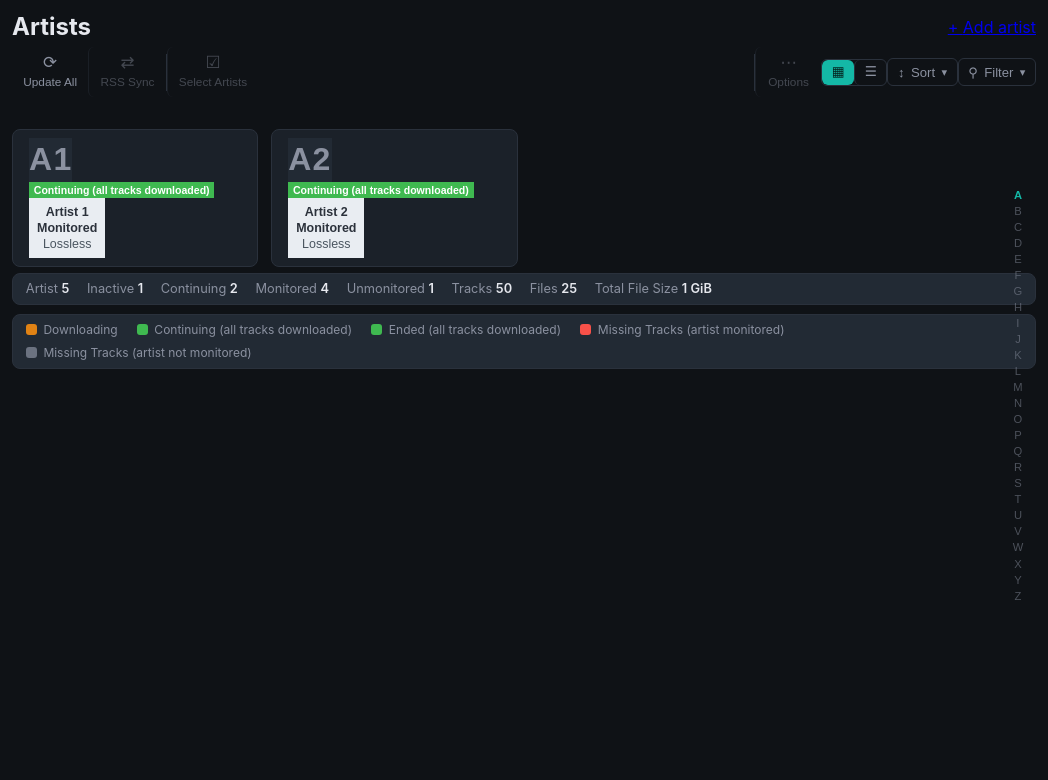
Test case: MusicPage (L1 artist grid) › shows the Lidarr-ordered toolbar groups and updates all
Expected: the element with test id "artist-card-1" is shown, [12,113,258,267]
Expected: the button with test id "music-rss-sync" is disabled, [88,47,166,97]
Click the button with test id "music-update-all" at coordinates (50, 72), box [12,47,88,97]
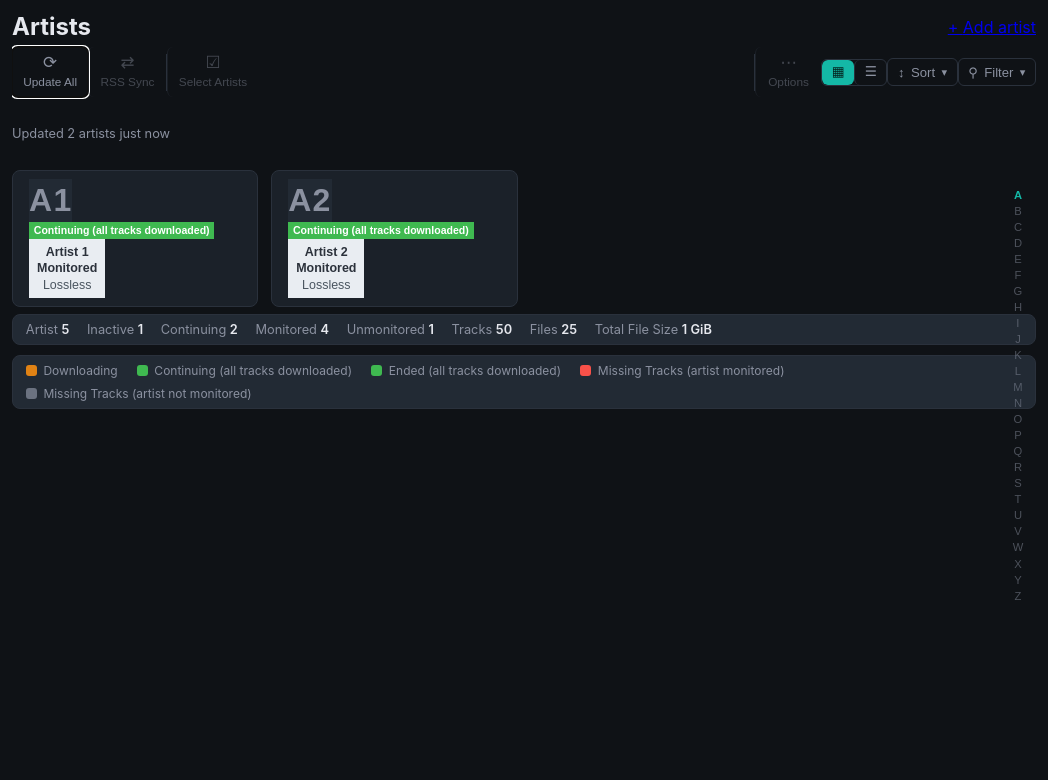
Expected: the message with test id "music-status" reads "Updated 2 artists just now", [12,126,170,141]
